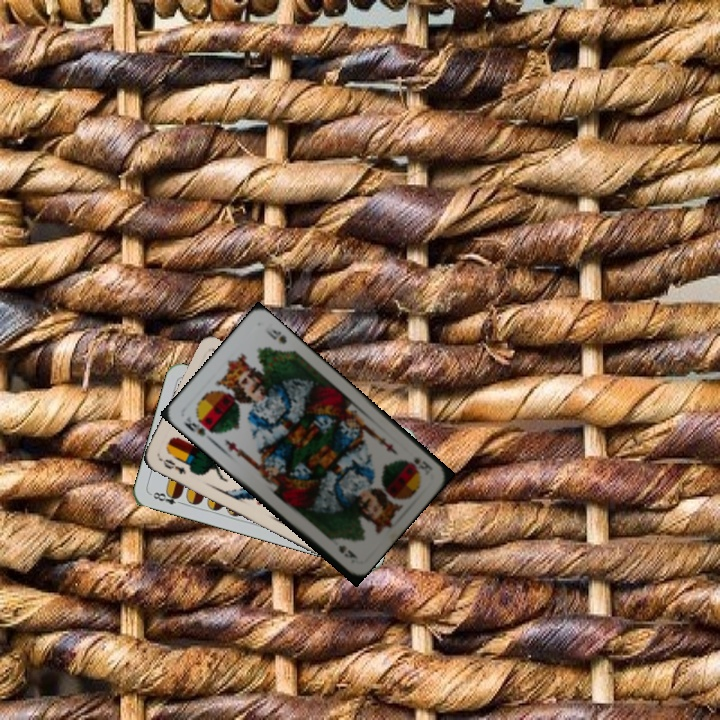E8: (147, 488, 187, 508)
EO: (156, 454, 189, 477)
SK: (179, 412, 215, 439), (401, 453, 435, 478)
